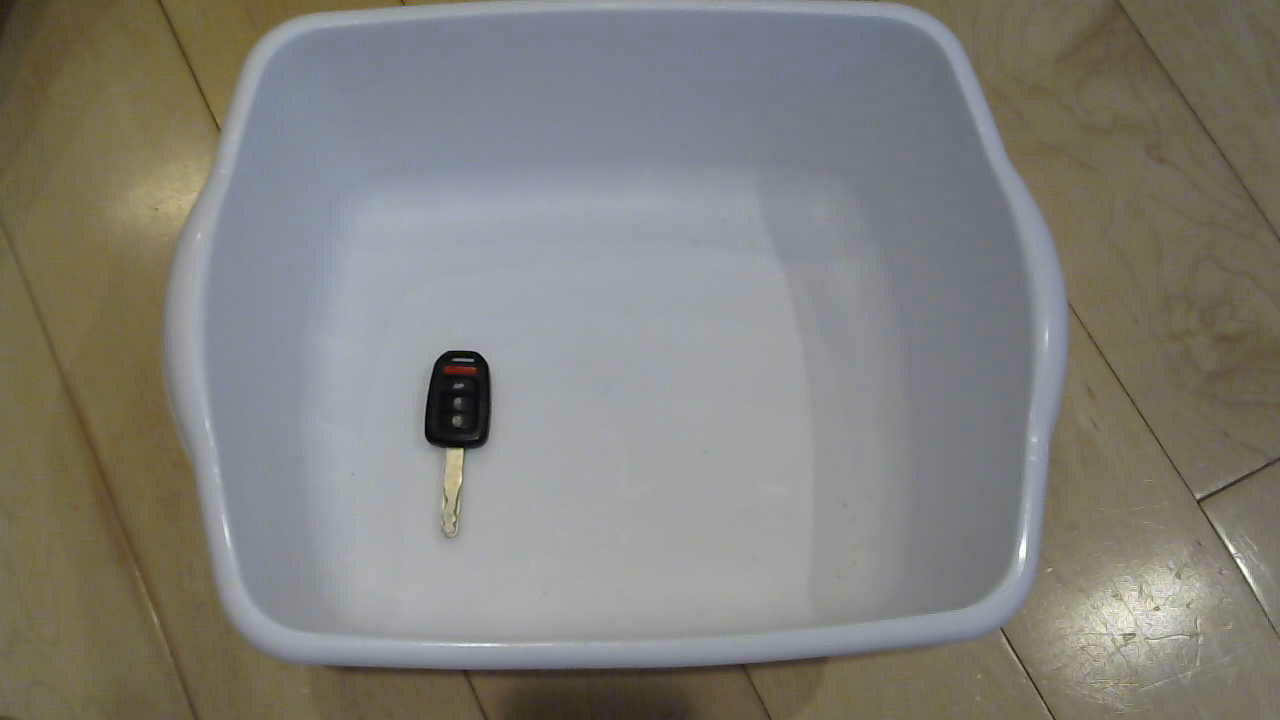key: (405, 350, 510, 549)
